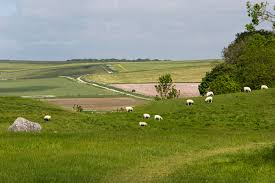sheep: (258, 83, 268, 94), (153, 113, 165, 122), (205, 90, 215, 100), (240, 85, 251, 94), (138, 120, 150, 128), (183, 98, 196, 105), (42, 113, 53, 121), (125, 105, 134, 113), (202, 97, 213, 103), (143, 113, 151, 119)
